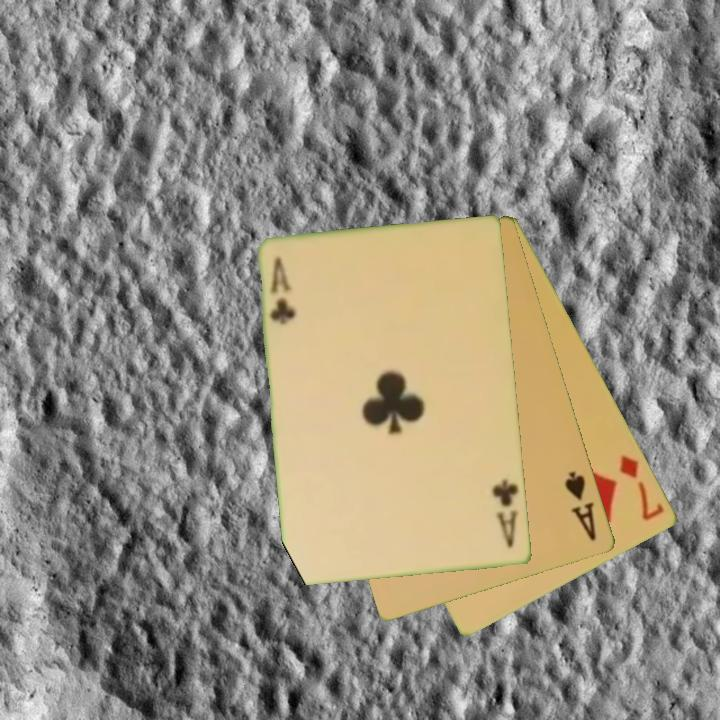7d: (616, 452, 667, 524)
Ac: (489, 476, 522, 551), (267, 253, 299, 328)
As: (561, 468, 600, 544)
